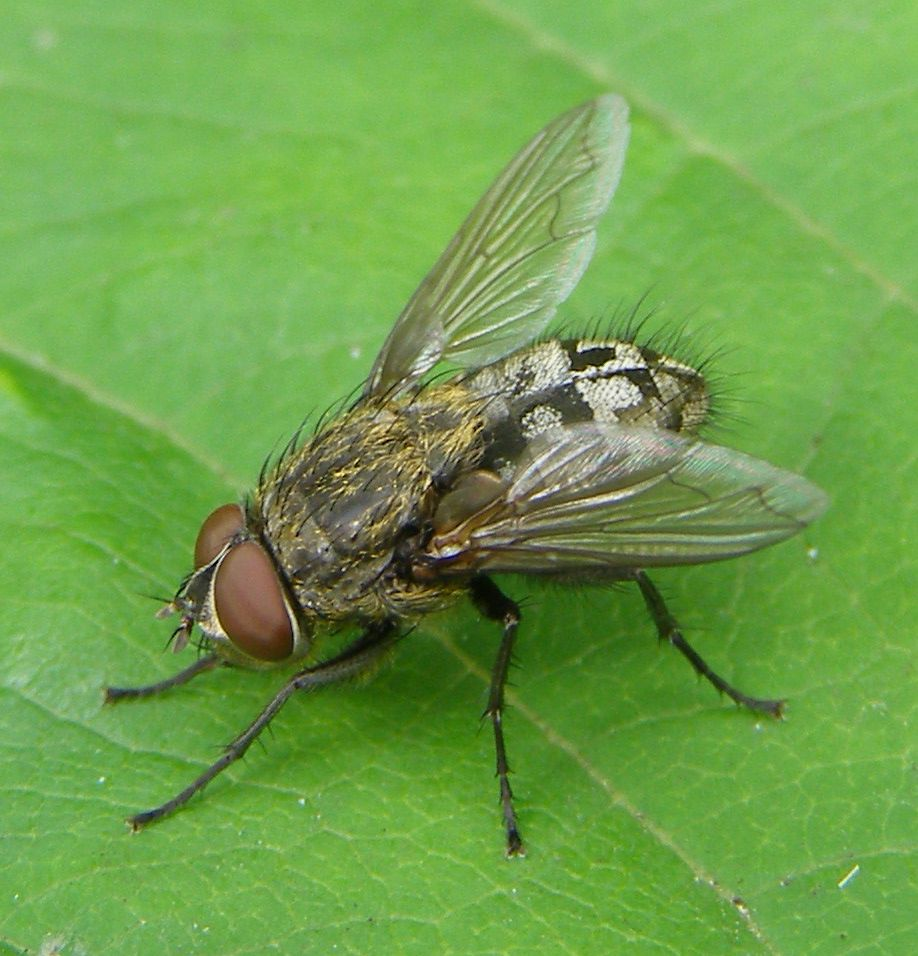fly: (85, 91, 815, 892)
